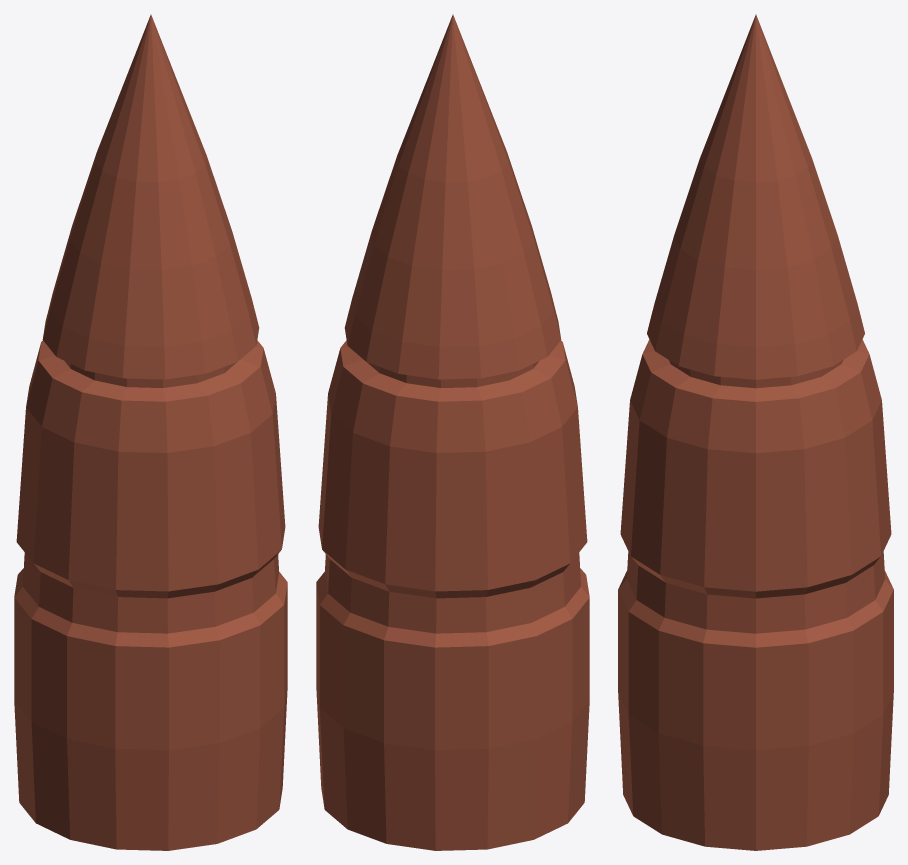
3 views of the same model, side by side, from view 1: azimuth 30°, elevation 25°; view 2: azimuth 150°, elevation 25°; view 3: azimuth 270°, elevation 25° (orthographic).
Parts seen in each view (by area): view 1: Cylinder.010; view 2: Cylinder.010; view 3: Cylinder.010.
Boxes of the visible parts, bbox=[...] form: Cylinder.010: bbox=[14, 14, 287, 850]; Cylinder.010: bbox=[316, 14, 589, 850]; Cylinder.010: bbox=[618, 14, 893, 850].
Bounding box in the file's own units: 0.6068 × 1.9 × 0.6068.
